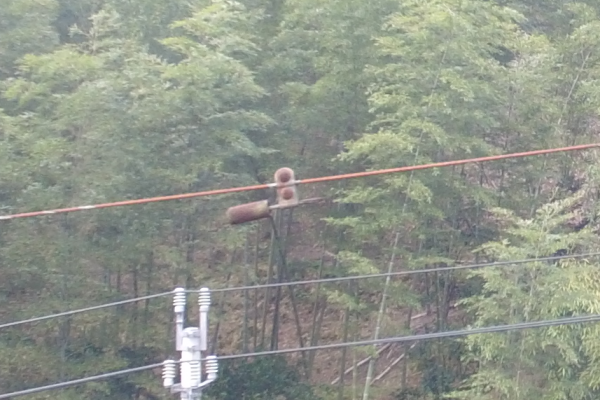damper_defect: (224, 165, 331, 224)
